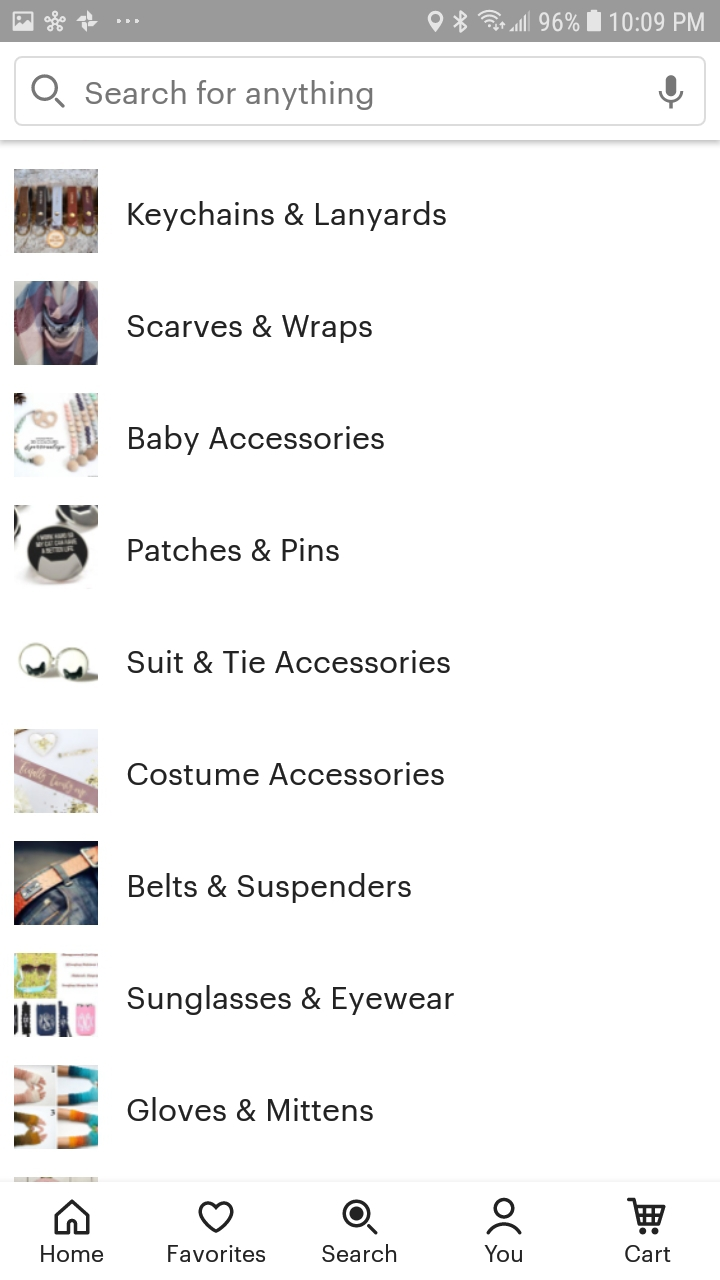EditText: (15, 57, 706, 127)
Icon: (626, 1197, 666, 1236), (486, 1197, 523, 1235), (342, 1199, 379, 1236), (55, 1199, 92, 1236), (198, 1200, 235, 1234), (32, 75, 66, 109), (659, 76, 684, 110)
Image: (14, 952, 99, 1038), (14, 169, 99, 254), (14, 281, 99, 366), (14, 393, 99, 478), (14, 729, 99, 814), (14, 841, 99, 926), (14, 1065, 99, 1149), (14, 505, 99, 586), (18, 642, 99, 684)
Text: (127, 984, 455, 1016), (128, 201, 447, 233), (129, 872, 412, 904), (86, 81, 374, 111), (129, 424, 385, 456), (128, 649, 451, 674), (128, 761, 445, 786), (128, 315, 373, 345), (127, 1096, 374, 1122), (128, 537, 340, 563), (168, 1244, 266, 1263), (322, 1243, 398, 1263), (41, 1244, 104, 1263), (624, 1244, 671, 1263), (485, 1244, 523, 1263)
UpperTaskBar: (2, 2, 720, 43)
